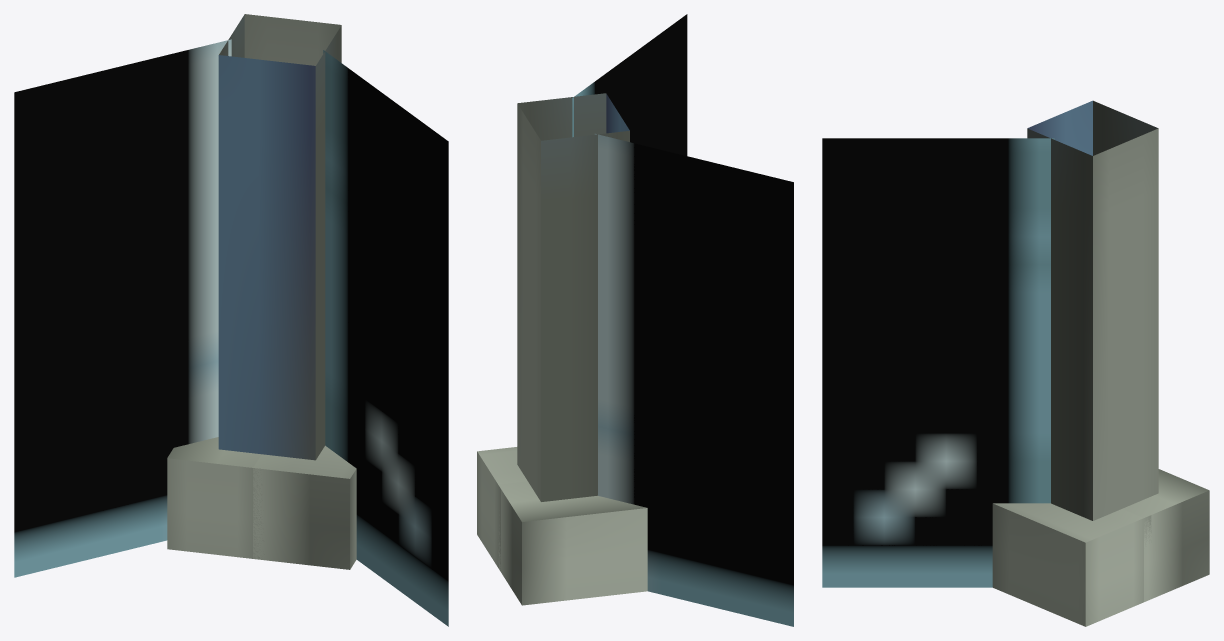
The picture shows the model from 3 angles, left to right: view 1: azimuth 30°, elevation 25°; view 2: azimuth 150°, elevation 25°; view 3: azimuth 270°, elevation 25°; orthographic projection. The views are drawn at different scales.
Visible parts, largest first — view 1: frame; view 2: frame; view 3: frame.
Part boxes in pixels (x1,y1,x2,y2): frame: [14, 14, 448, 626]; frame: [477, 14, 793, 626]; frame: [822, 100, 1209, 626].
Size of the model in its own units: 0.7812 by 1 by 0.7812.
